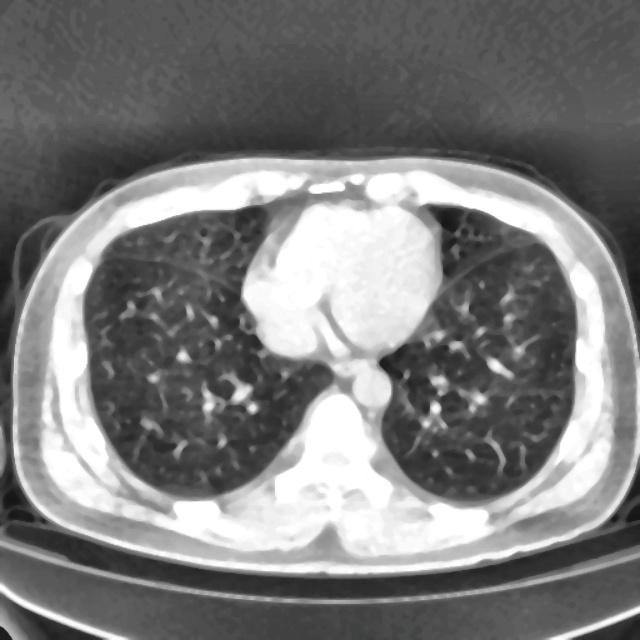covid: (9, 150, 638, 576)
